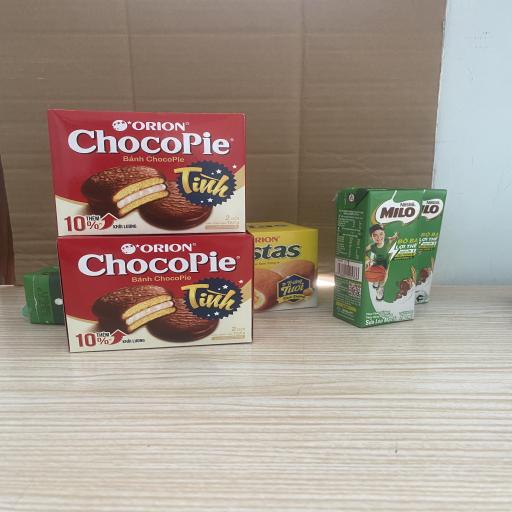chocopie: (48, 109, 245, 237), (56, 232, 254, 352)
custas: (246, 221, 318, 311)
milo: (333, 187, 424, 328), (363, 186, 447, 306)
